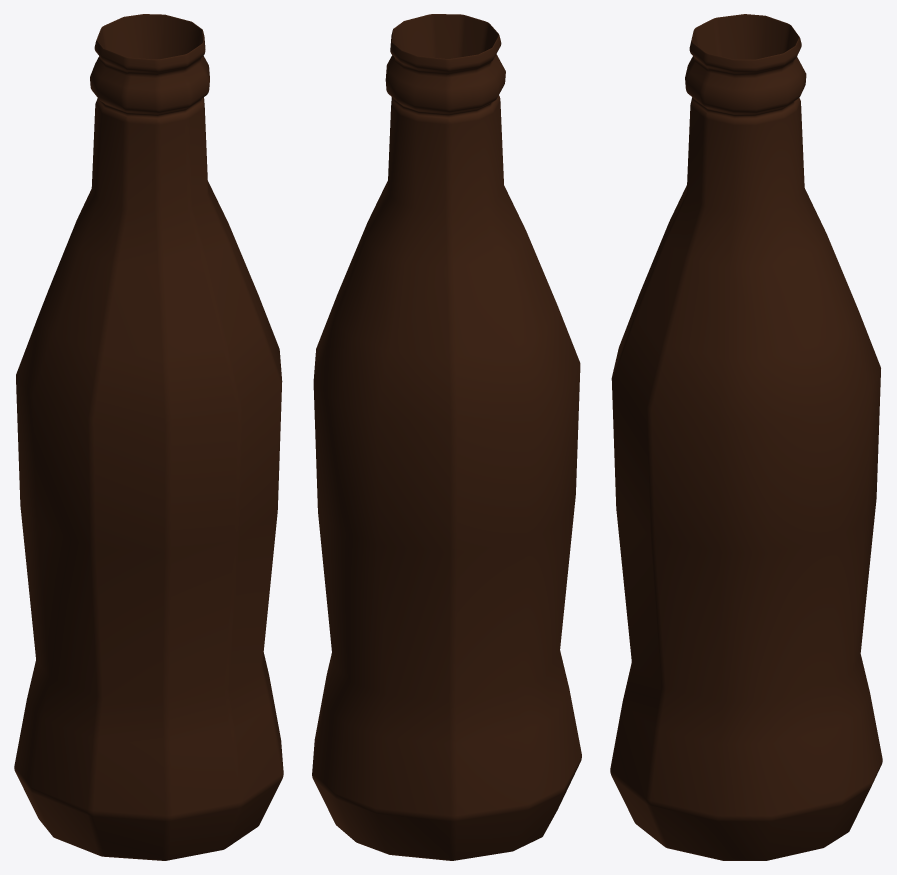
Rendered from B.Prop_bottle_01.fbx.
The picture shows the model from 3 angles, left to right: view 1: azimuth 30°, elevation 25°; view 2: azimuth 150°, elevation 25°; view 3: azimuth 270°, elevation 25°; orthographic projection.
Visible parts, largest first — view 1: Cylinder; view 2: Cylinder; view 3: Cylinder.
Part boxes in pixels (x1,y1,x2,y2): Cylinder: [14, 14, 283, 860]; Cylinder: [312, 14, 581, 860]; Cylinder: [610, 14, 882, 860].
Size of the model in its own units: 161 by 507 by 161.
Materials: 1 (1 with a texture image).
